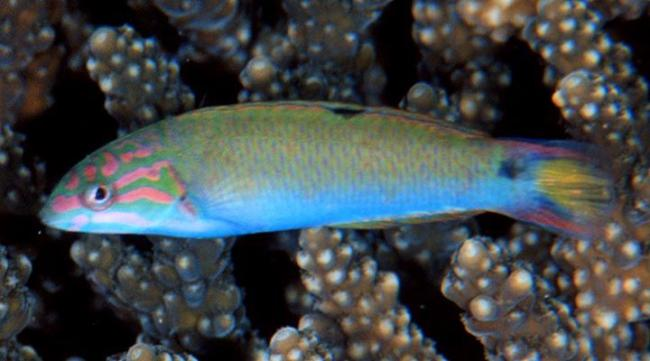fish: (39, 101, 618, 242)
